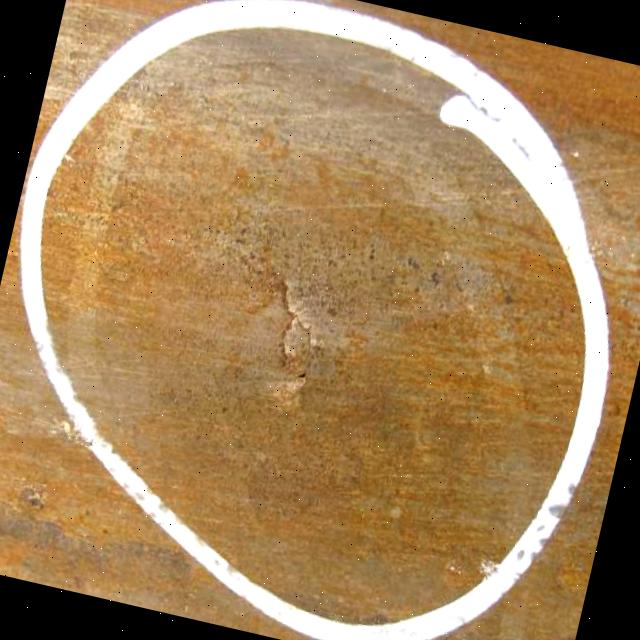Contact_Fatigue_Cracks: (254, 275, 333, 397)
